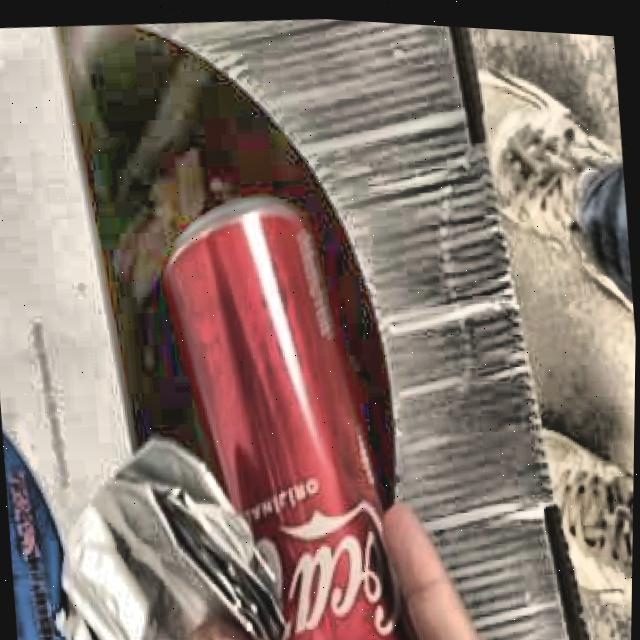metal: (167, 195, 414, 640)
